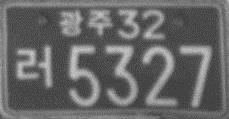2: (141, 44, 177, 108), (142, 8, 167, 41)
3: (104, 43, 139, 107), (117, 6, 142, 39)
5: (67, 43, 102, 109)
7: (178, 43, 213, 108)
광주_O: (58, 6, 113, 36)
러: (15, 42, 53, 89)
